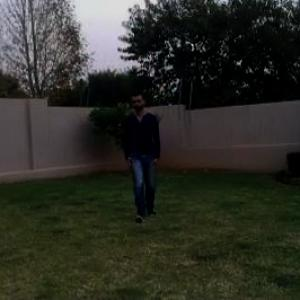follow: (123, 85, 165, 226)
